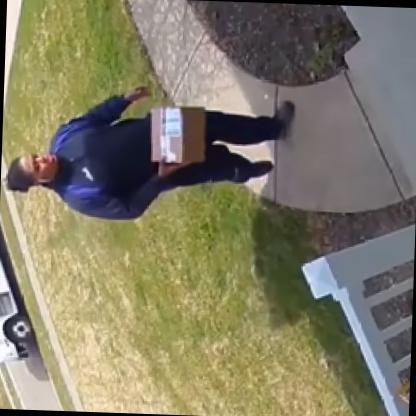Human Body: (0, 71, 303, 233)
